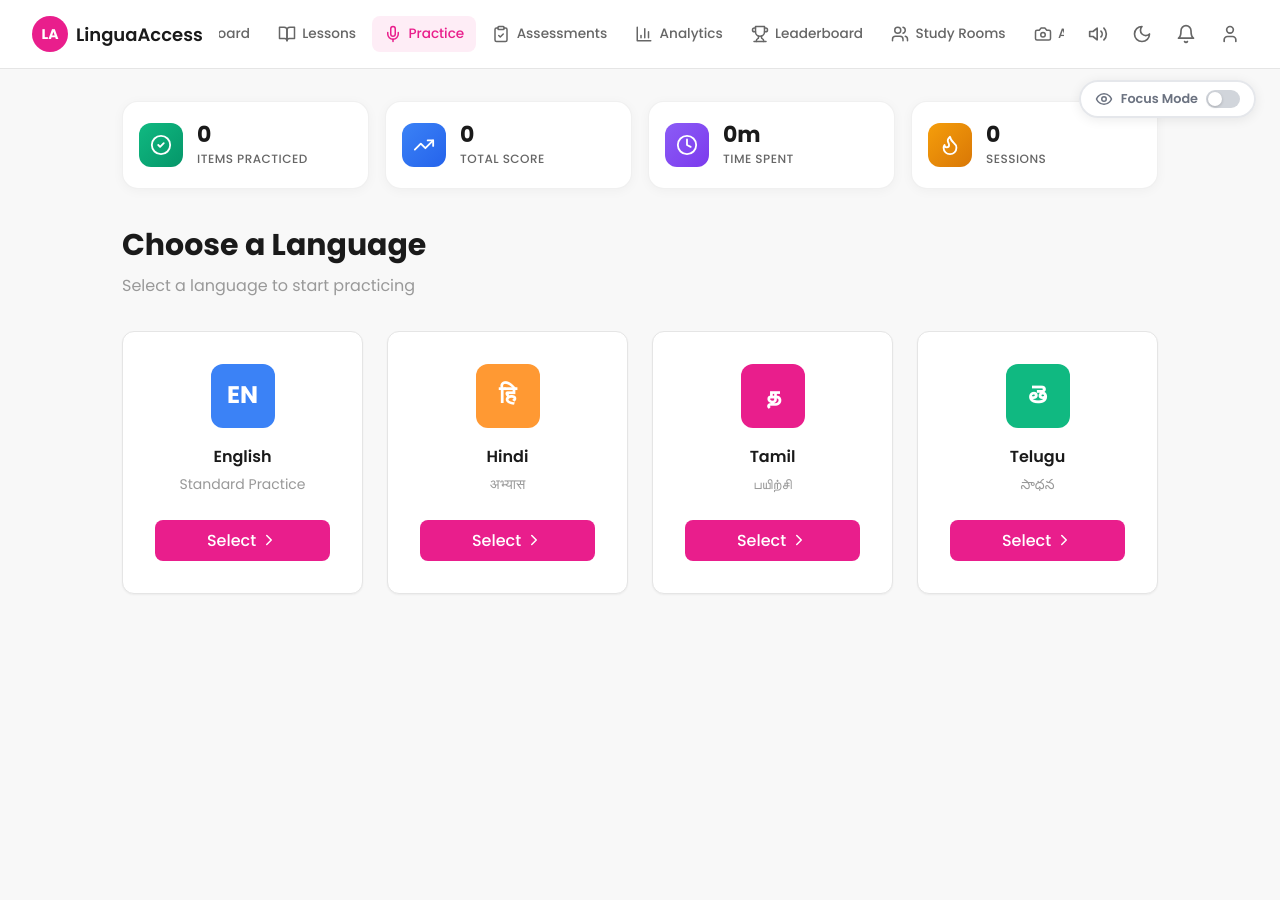
Scenario: Practice Page — Navigation › can select a language by clicking its card
This screenshot has width=1280, height=900.
Click on the English card
Click the heading "English". click: (242,456)
box: [213, 444, 272, 469]
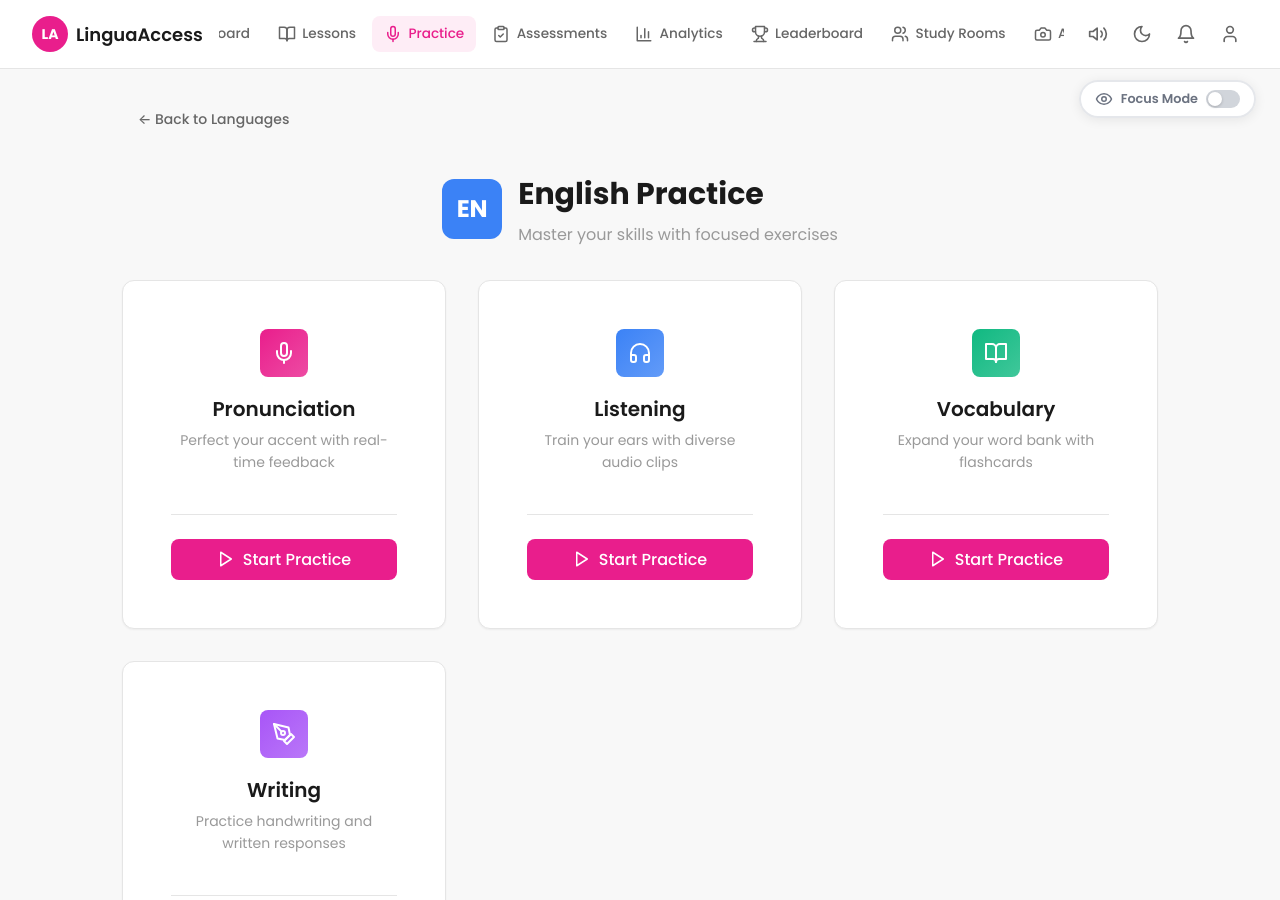
Now the heading "English Practice" is shown, box [518, 173, 764, 215]
